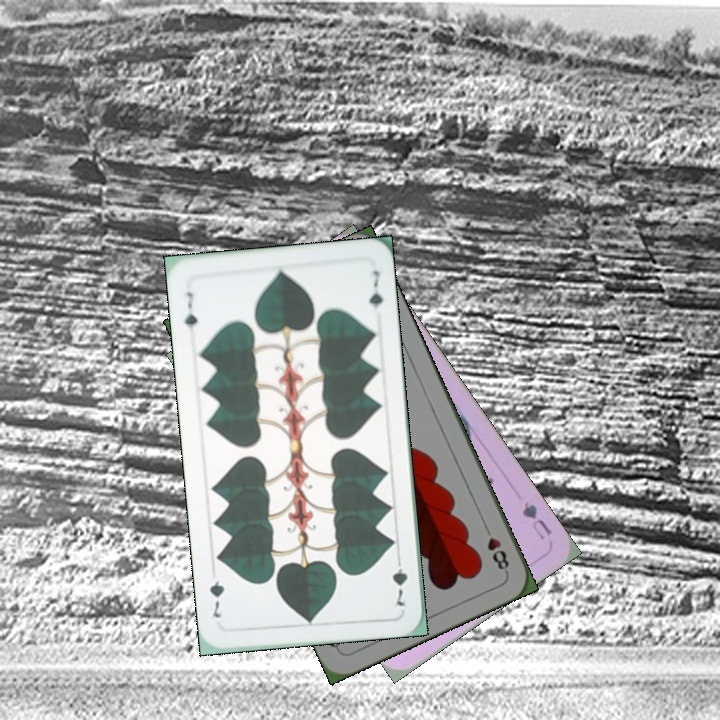G7: (389, 551, 410, 609), (181, 288, 200, 331)
GU: (517, 497, 555, 543)
H8: (479, 519, 512, 575)
